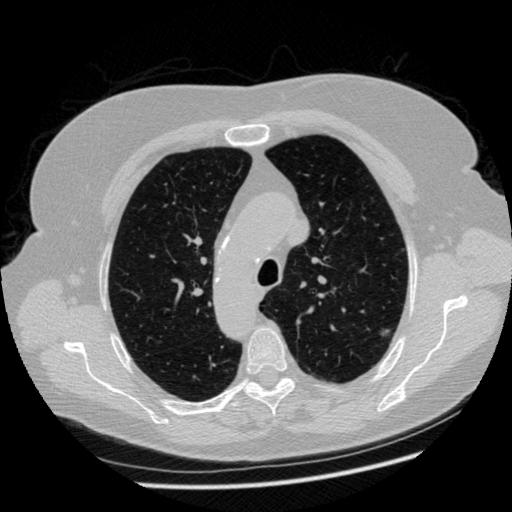nodule: (380, 325, 395, 340)
